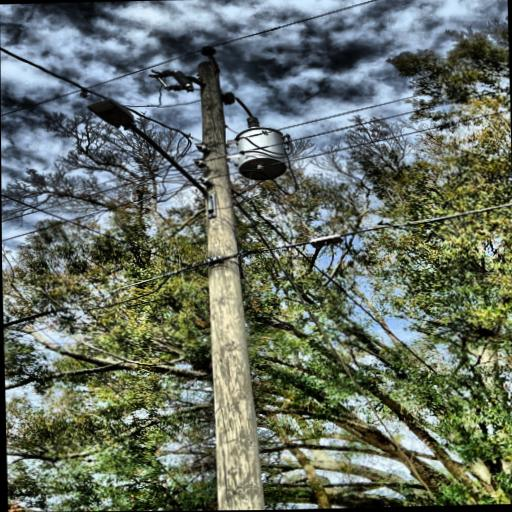insulator: (200, 44, 218, 56)
pole: (187, 54, 276, 511)
street light: (85, 95, 219, 222)
transformer: (234, 126, 287, 181)
